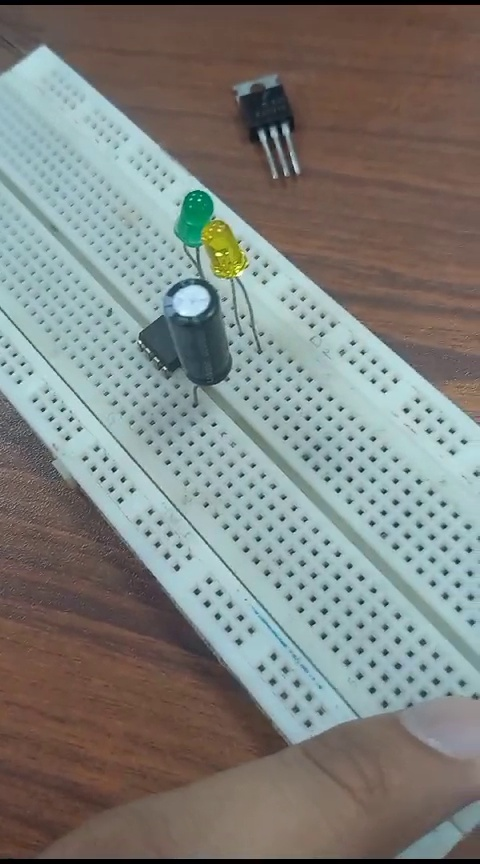IC: (118, 313, 180, 369)
LED: (200, 221, 255, 292), (175, 187, 210, 269)
capacitor: (166, 277, 230, 393)
voltage regulator: (215, 57, 314, 183)
